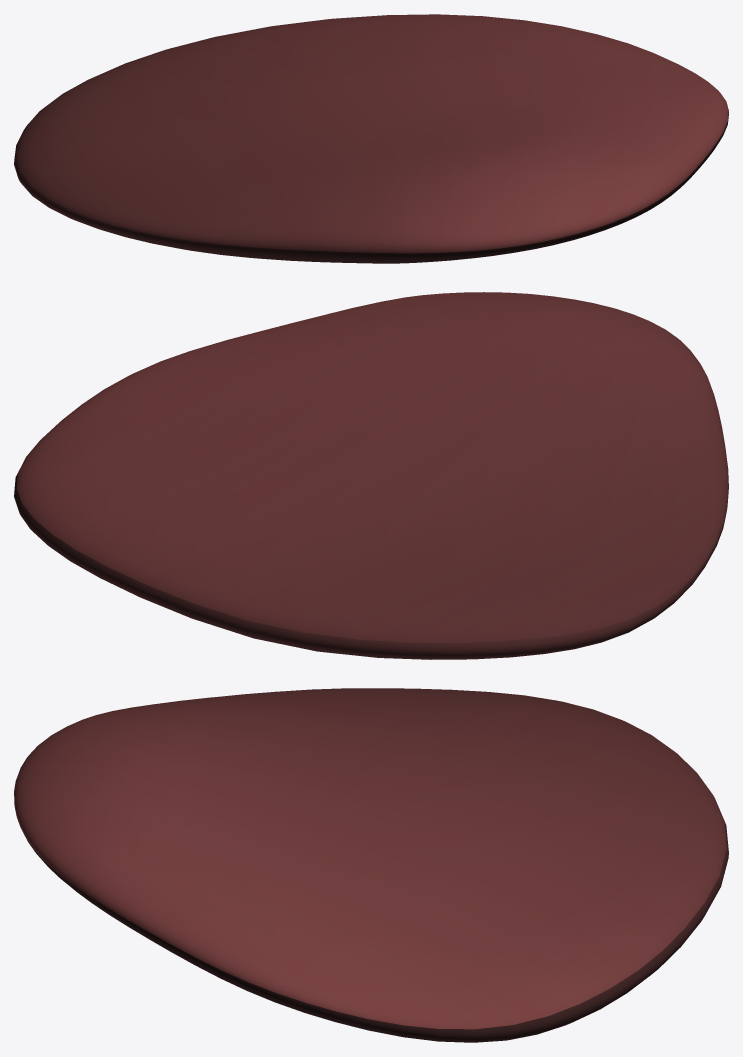
The model's file is common.glb.
3 renders of one model, top to bottom at view 1: azimuth 30°, elevation 25°; view 2: azimuth 150°, elevation 25°; view 3: azimuth 270°, elevation 25°, orthographic. The views are drawn at different scales.
Parts seen in each view (by area): view 1: t_common; view 2: t_common; view 3: t_common.
Part boxes in pixels (bbox=[...]): t_common: bbox=[14, 14, 728, 263]; t_common: bbox=[14, 292, 728, 659]; t_common: bbox=[14, 688, 728, 1042].
Bounding box in the file's own units: 0.1252 × 0.025 × 0.1173.
1 material, 1 textured.
